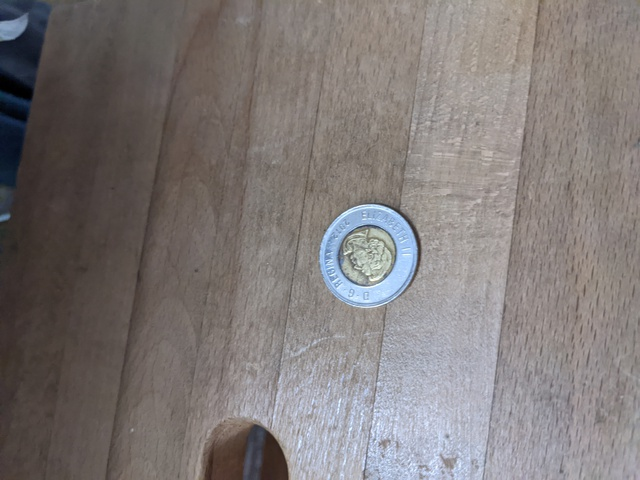twonie: (307, 190, 437, 320)
